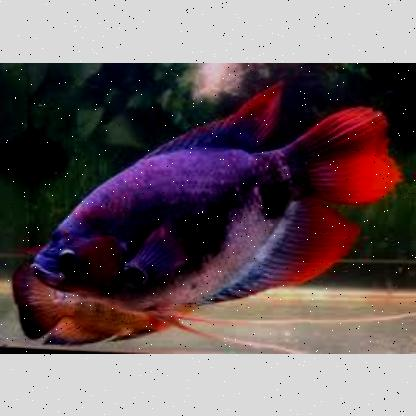gurame: (41, 111, 373, 309)
